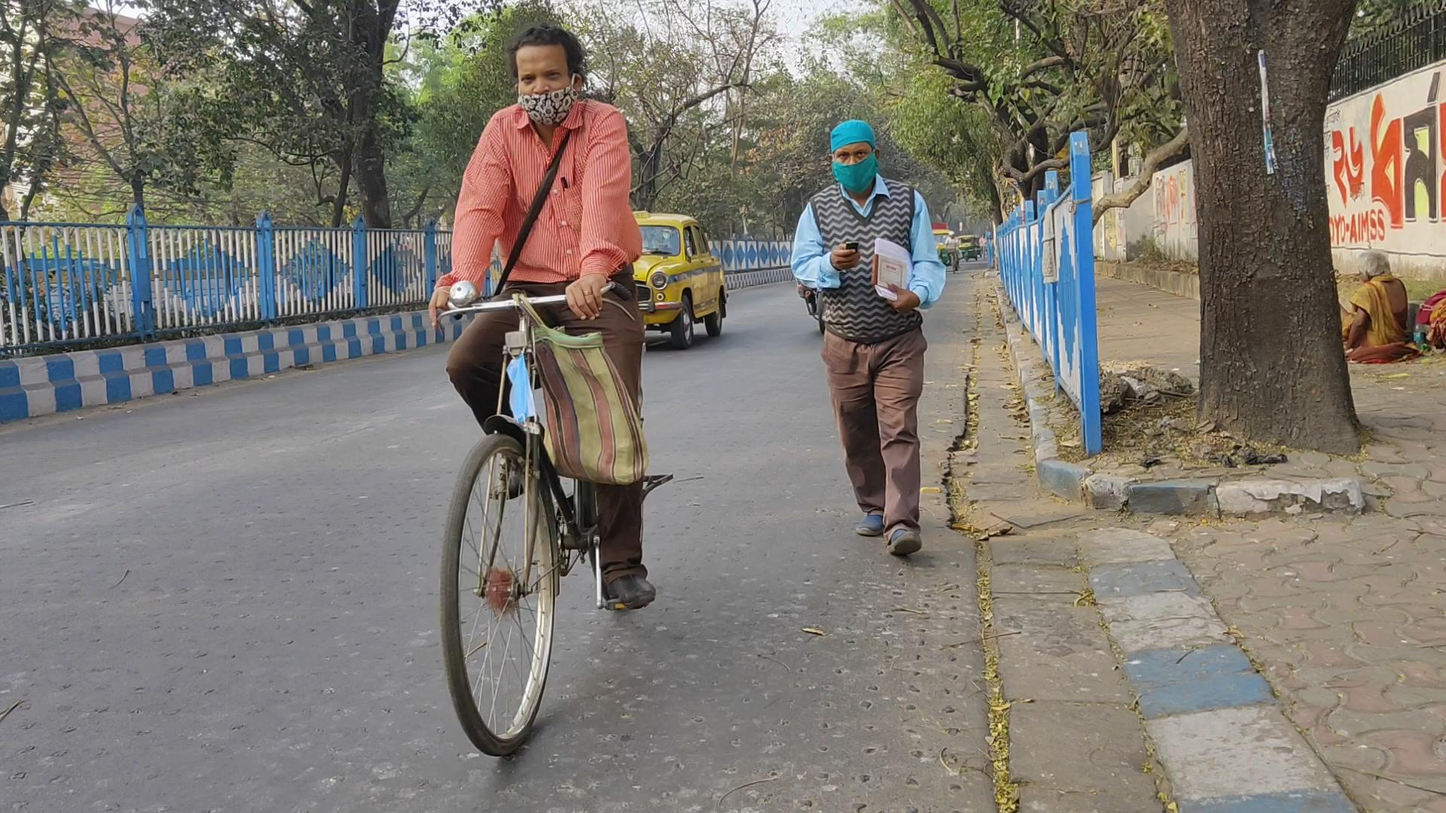Auto: (959, 234, 981, 262)
bike: (430, 30, 672, 757), (944, 230, 962, 275)
car: (631, 211, 729, 348)
